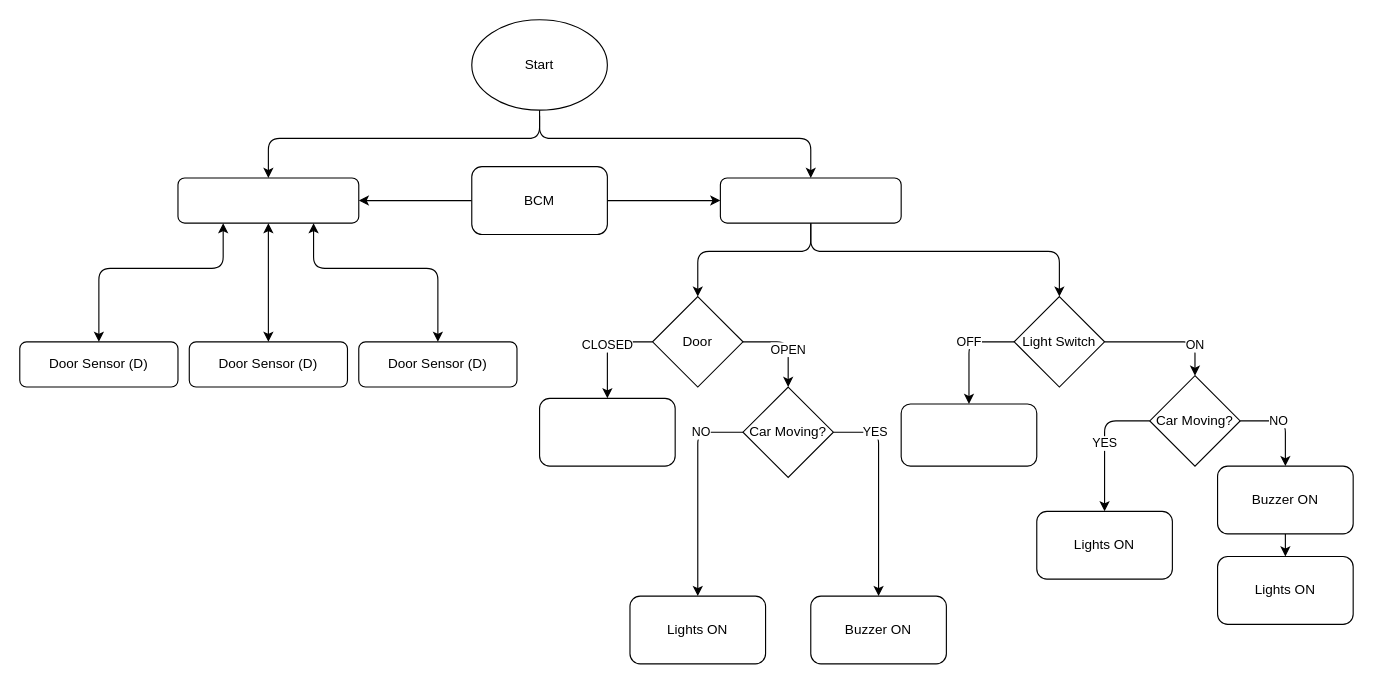
Image size: 1373x684. Some labels were removed from this diagram. Here are the shapes that lost their labels. From the top down, the centre of each, then its label:
At point 268,200: "ECU 1".
At point 810,200: "ECU 2".
At point 606,431: "Lights OFF after 3 Seconds".
At point 968,434: "Lights OFF".
